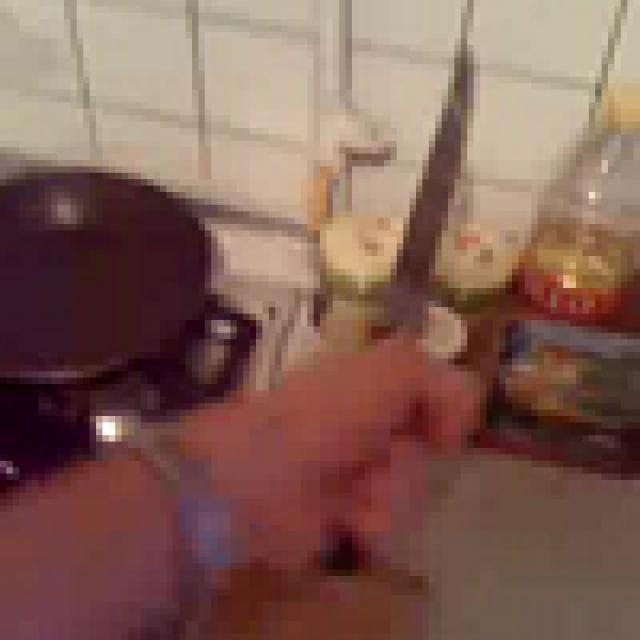knife: (320, 26, 499, 583)
